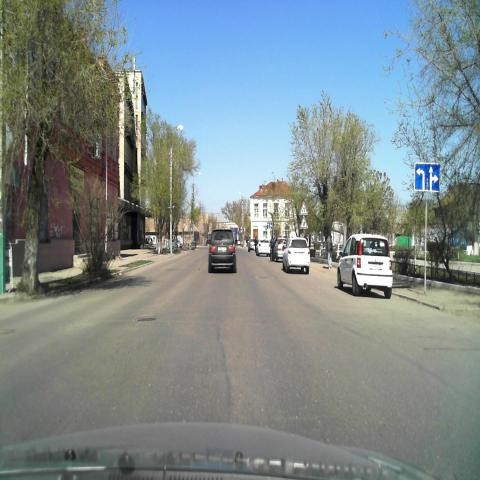1_20_3: (299, 202, 309, 216)
1_21: (300, 216, 308, 229)
